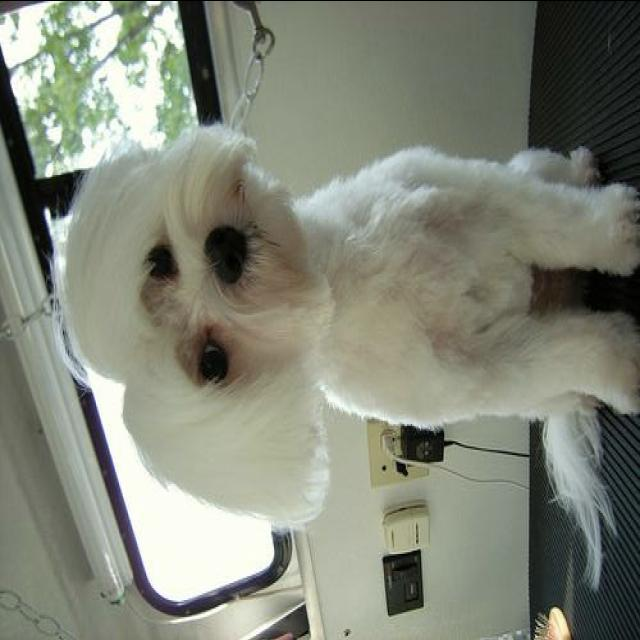maltese_dog: (55, 121, 637, 533)
